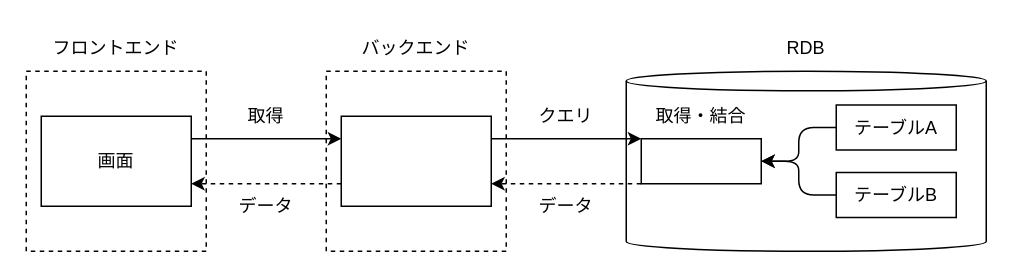
This 1013x278 diagram has some shape labels left out. Here are the shapes that lost their labels. From the top down, the centre of each, then its label:
At pixel 415 160: "API".
At pixel 700 160: "DBエンジン".
